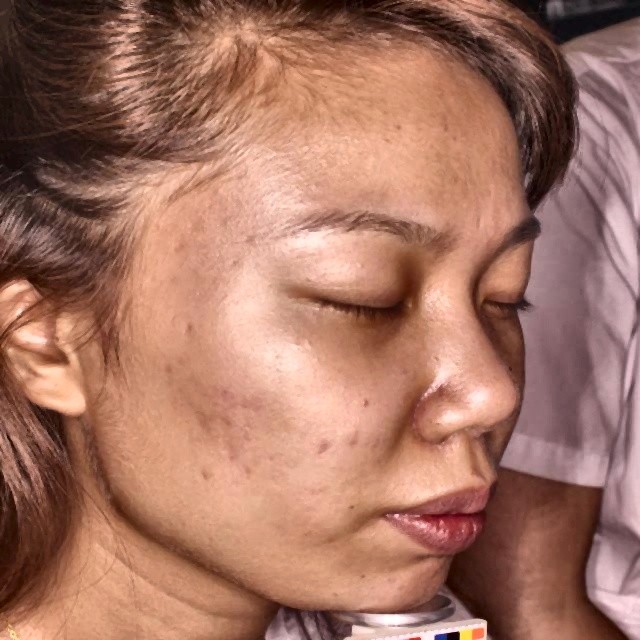comedone: (301, 435, 333, 465)
